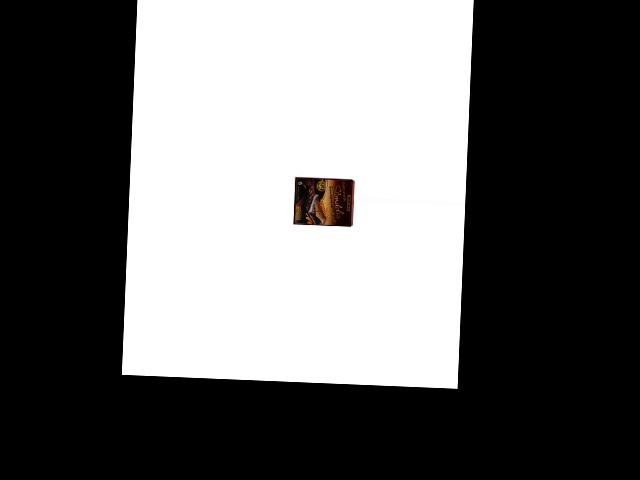chocolate: (293, 177, 354, 226)
